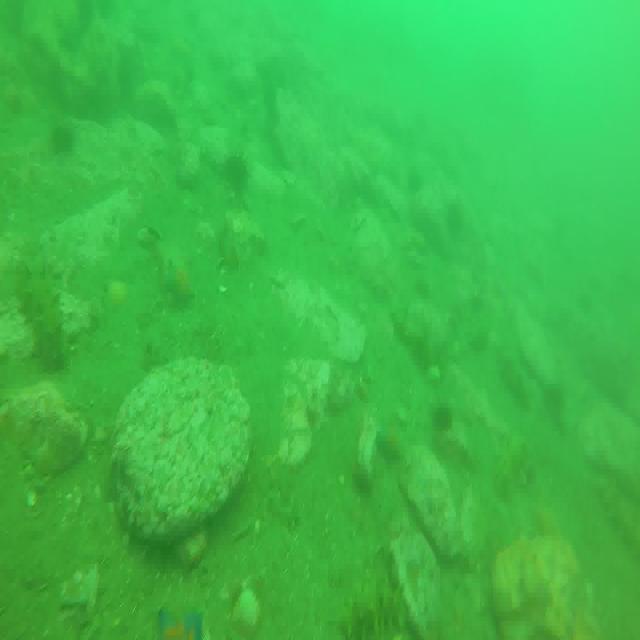echinus: (223, 152, 250, 191), (50, 121, 79, 153), (431, 401, 453, 433), (101, 0, 119, 32), (71, 0, 95, 22)
holothurian: (16, 245, 68, 369), (332, 590, 413, 640)
starfish: (154, 601, 207, 640), (162, 259, 198, 306), (372, 426, 403, 468)
